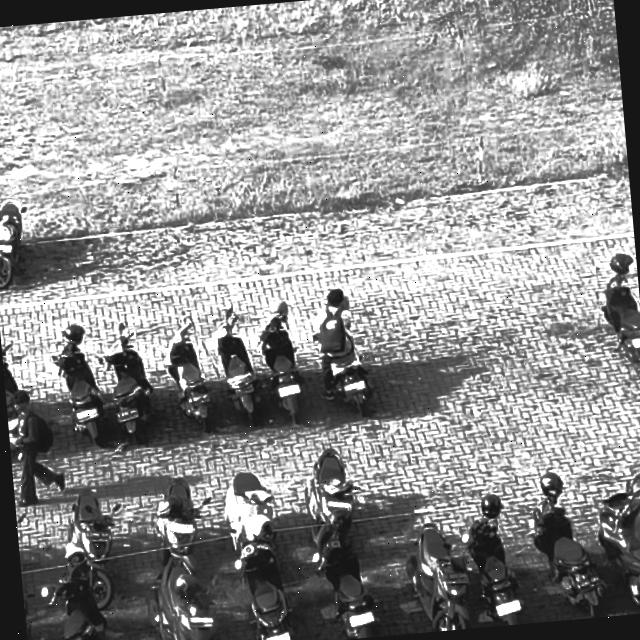motor: (518, 463, 608, 622), (303, 513, 389, 640), (454, 488, 532, 628), (396, 509, 482, 634), (225, 514, 310, 640), (40, 318, 116, 452), (290, 442, 374, 562), (142, 469, 212, 592), (214, 458, 287, 574), (52, 484, 118, 612), (96, 326, 162, 452), (141, 549, 230, 640), (157, 310, 220, 438), (252, 294, 310, 428), (203, 303, 266, 426), (588, 473, 640, 616), (45, 547, 122, 640), (590, 248, 640, 378), (0, 192, 37, 295), (0, 331, 18, 407)
